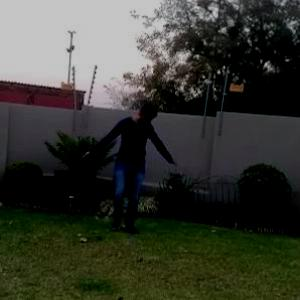land: (85, 94, 190, 246)
